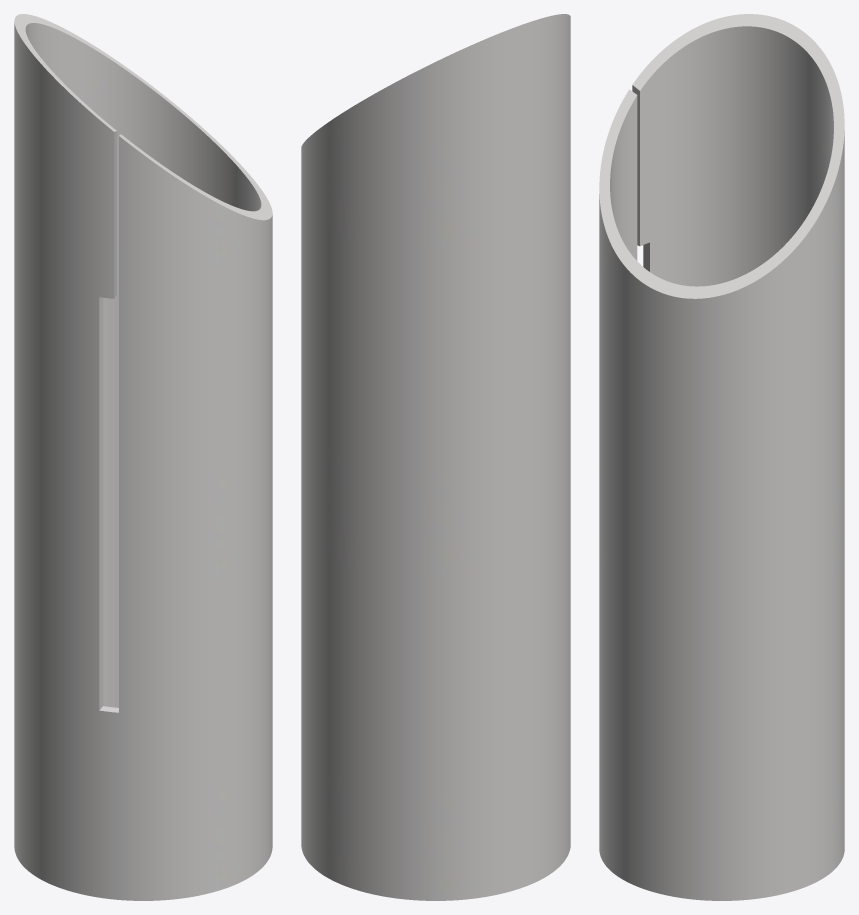
Rendered from 02_strelec_bila.glb.
3 renders of one model, left to right at view 1: azimuth 30°, elevation 25°; view 2: azimuth 150°, elevation 25°; view 3: azimuth 270°, elevation 25°, orthographic. The views are drawn at different scales.
Visible parts, largest first — view 1: 02_strelec_bila; view 2: 02_strelec_bila; view 3: 02_strelec_bila.
Part boxes in pixels (x1,y1,x2,y2): 02_strelec_bila: [14, 14, 272, 900]; 02_strelec_bila: [301, 14, 570, 900]; 02_strelec_bila: [599, 14, 844, 900].
Size of the model in its own units: 0.03 by 0.106 by 0.03.
Materials: 1 (1 with a texture image).
